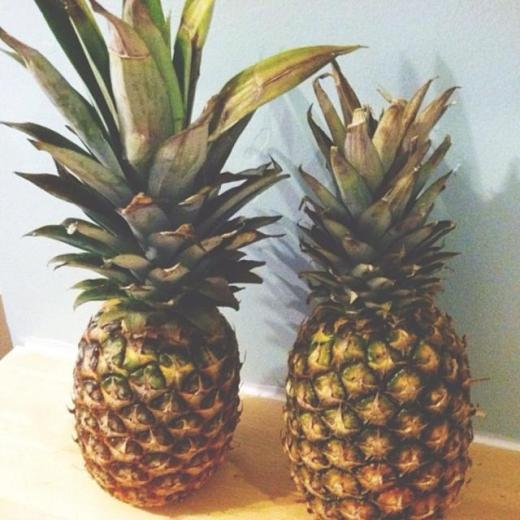Mango: (0, 0, 369, 509), (281, 51, 494, 520)
